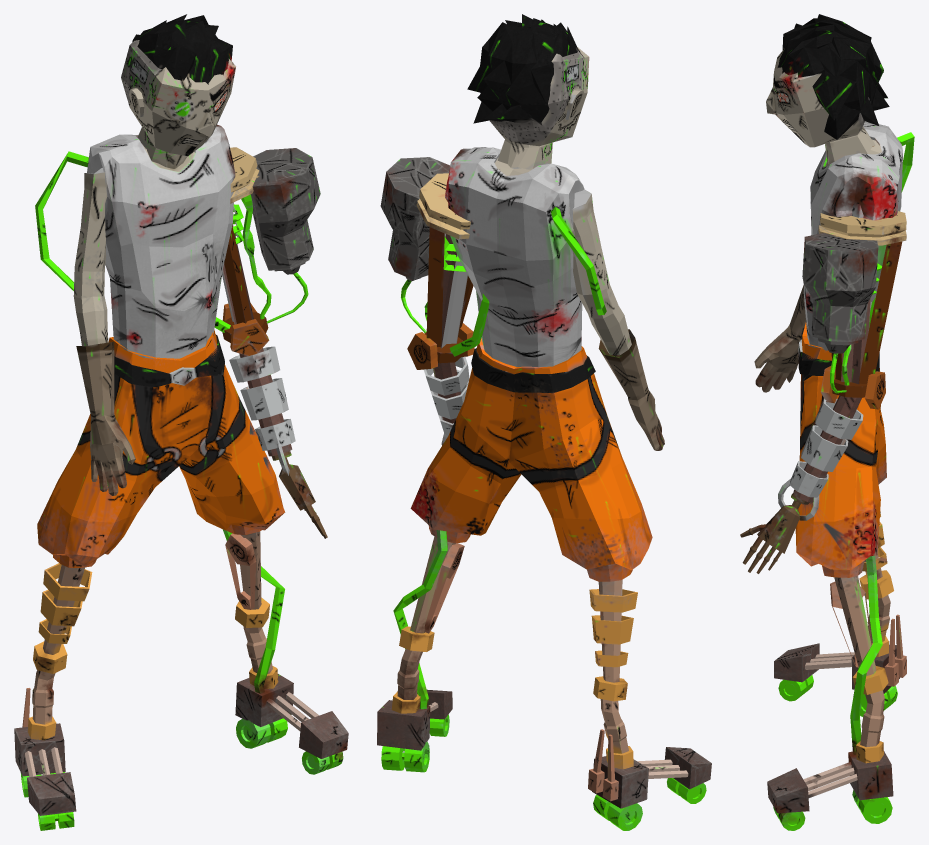
The model's file is CyborgFINALAnimation_000034.obj.
3 views of the same model, side by side, from view 1: azimuth 30°, elevation 25°; view 2: azimuth 150°, elevation 25°; view 3: azimuth 270°, elevation 25° (orthographic). The views are drawn at different scales.
Parts seen in each view (by area): view 1: CyborgMesh_Cube.002; view 2: CyborgMesh_Cube.002; view 3: CyborgMesh_Cube.002.
Boxes of the visible parts, x1,y1,x2,y2 form: CyborgMesh_Cube.002: (14, 14, 348, 830); CyborgMesh_Cube.002: (377, 14, 711, 830); CyborgMesh_Cube.002: (740, 14, 914, 830).
Size of the model in its own units: 3.99 by 9.62 by 2.04.
